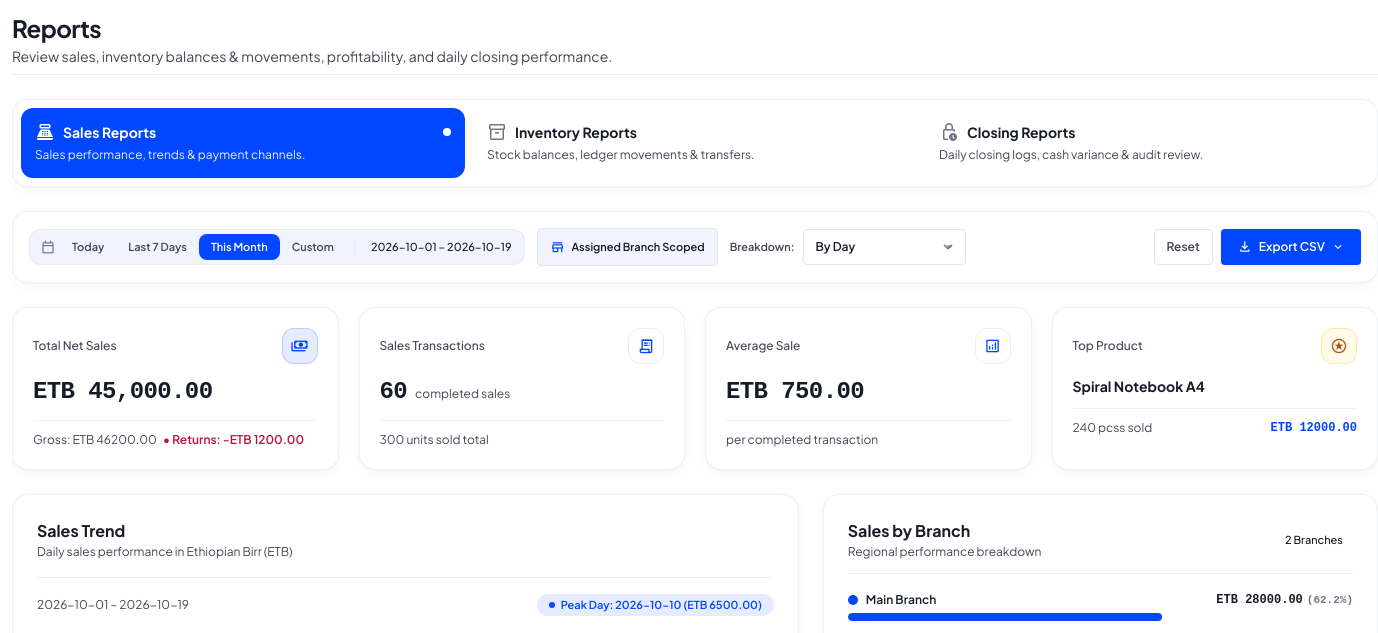
Test: ReportsPage Component (Milestone 10 — Slices 10.3, 10.4, 10.5, 10.6) › hides Profit Reports tab and restricts financial data for Employee
This screenshot has width=1378, height=633.
Expected: the heading "Reports" is shown, [12,13,101,43]
# Switch to Inventory tab
Click the text "Inventory Reports" at (576, 132), box [515,122,637,142]
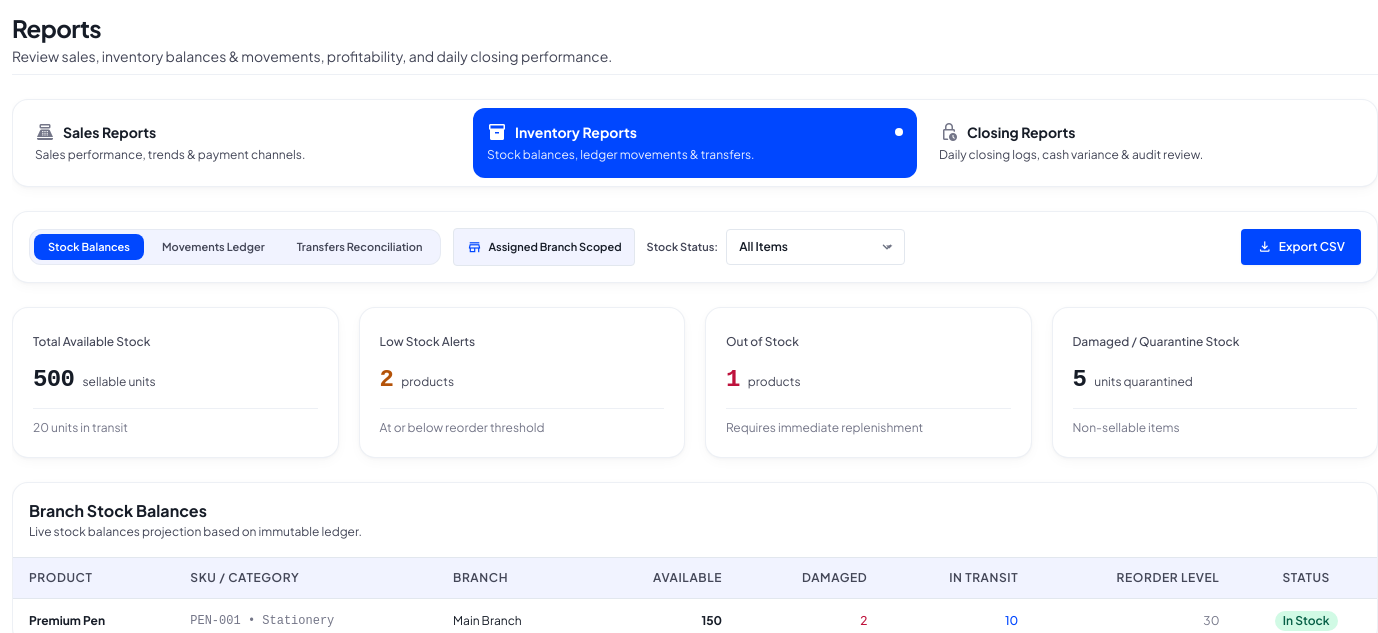
Result: the button "Stock Balances" is shown at [34,234,144,260]
